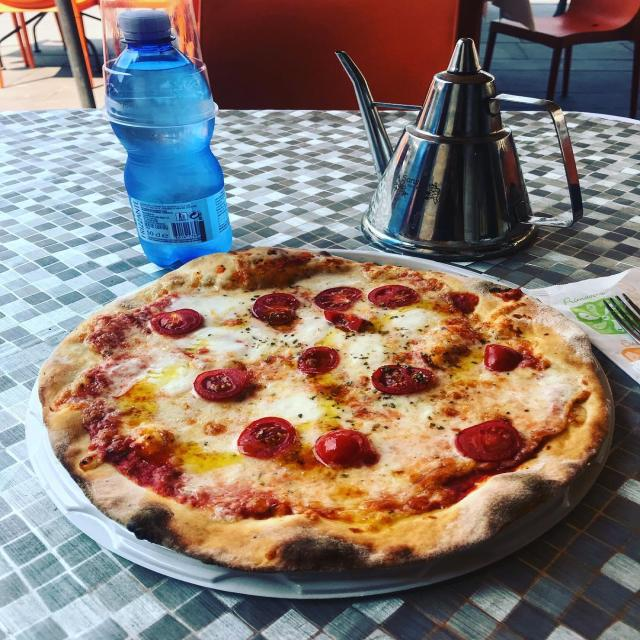pizza: (33, 244, 614, 576)
tomatoes: (450, 419, 524, 463), (232, 415, 303, 458), (315, 284, 371, 336), (312, 430, 379, 469), (371, 358, 439, 396), (191, 367, 251, 401), (249, 291, 304, 324), (294, 343, 338, 378), (149, 308, 201, 337), (482, 340, 522, 376), (369, 285, 421, 309)
